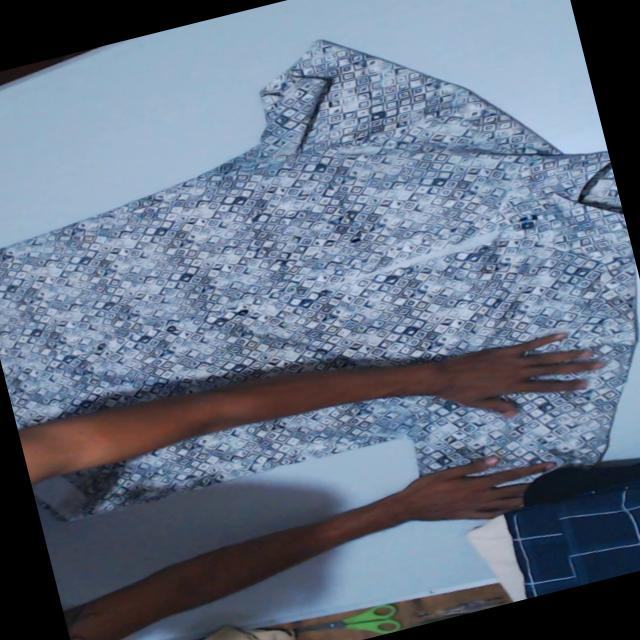new-garment: (0, 40, 636, 518)
